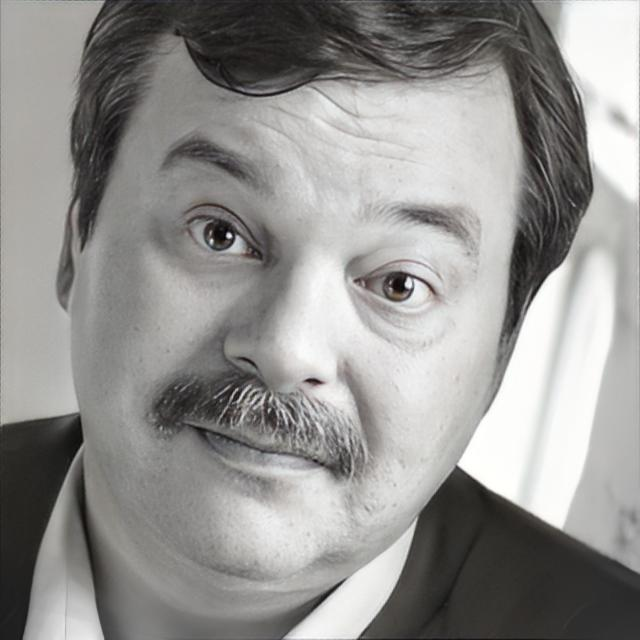surprise: (68, 40, 528, 581)
